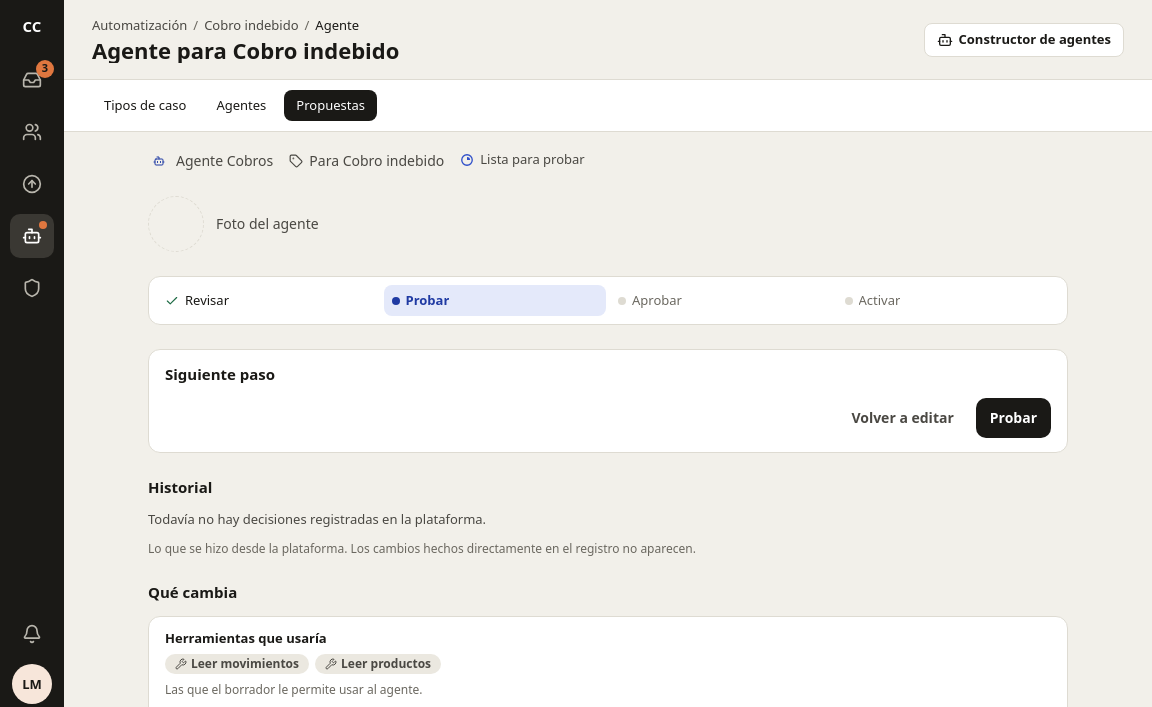
Test: a proposal (slice 22) › treats a 404 on the test as no suite
The width and height of the screenshot is (1152, 707).
Click the button "Probar" at (1013, 418), box [976,398,1051,438]
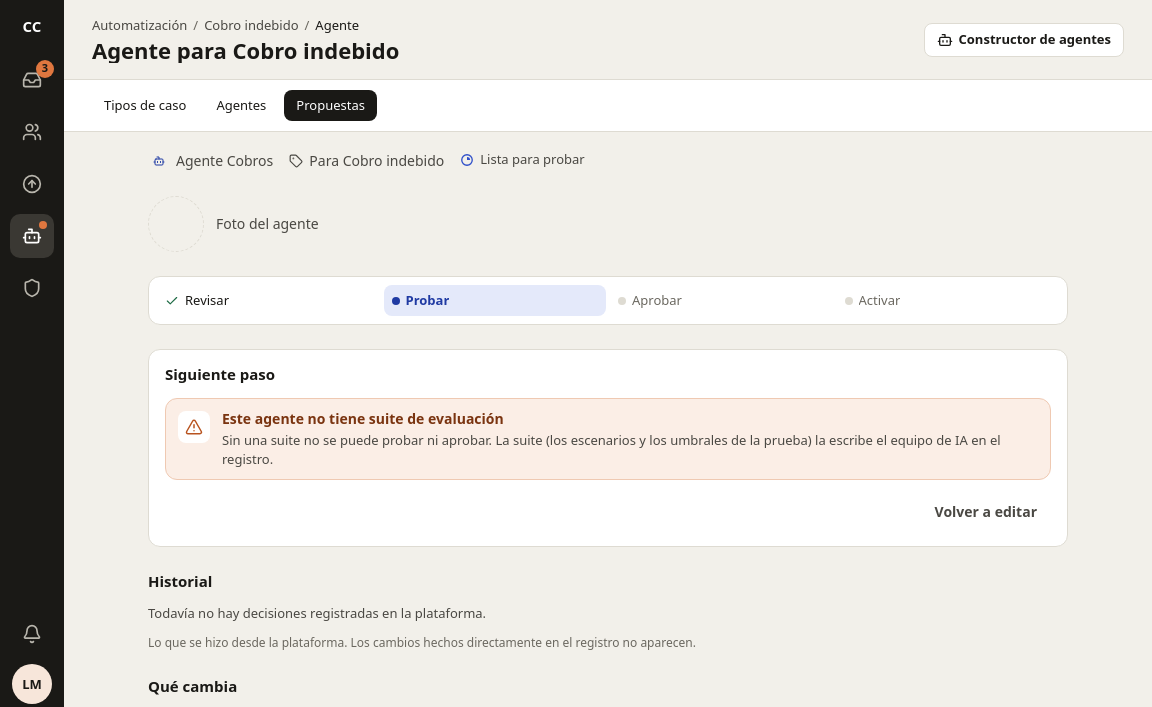
Check: the text "Este agente no tiene suite de evaluación" is shown, box [222,409,504,428]
